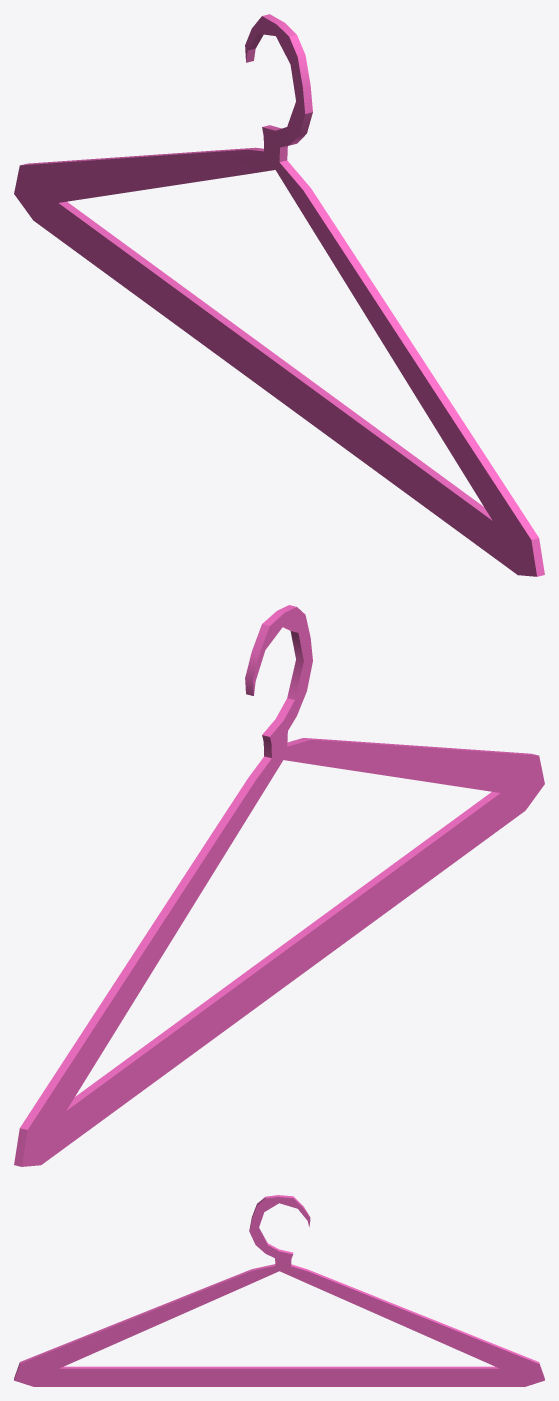
The model's file is Hanger_I.FBX.
3 views of the same model, one above another, from view 1: azimuth 30°, elevation 25°; view 2: azimuth 150°, elevation 25°; view 3: azimuth 270°, elevation 25° (orthographic). The views are drawn at different scales.
Parts seen in each view (by area): view 1: Hanger; view 2: Hanger; view 3: Hanger.
Boxes of the visible parts, x1,y1,x2,y2 form: Hanger: [14, 14, 544, 576]; Hanger: [14, 605, 544, 1166]; Hanger: [14, 1195, 544, 1386].
Size of the model in its own units: 1.01 by 45.57 by 115.
